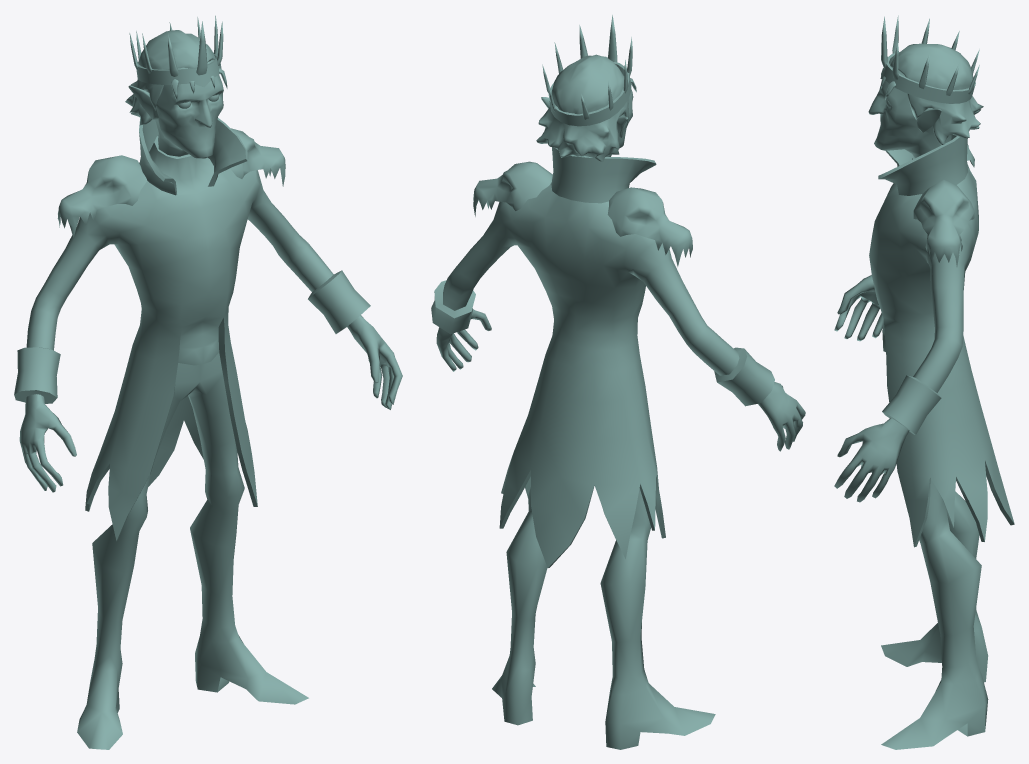
File: Koschey_g.fbx
3 views of the same model, side by side, from view 1: azimuth 30°, elevation 25°; view 2: azimuth 150°, elevation 25°; view 3: azimuth 270°, elevation 25° (orthographic). The views are drawn at different scales.
Parts seen in each view (by area): view 1: Koschey_g; view 2: Koschey_g; view 3: Koschey_g.
Boxes of the visible parts, x1,y1,x2,y2 form: Koschey_g: (14,15,402,749); Koschey_g: (431,15,805,749); Koschey_g: (834,15,1014,749).
Size of the model in its own units: 491 by 906 by 215.
